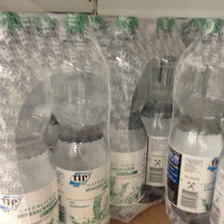water: (50, 12, 113, 224), (1, 12, 60, 224), (168, 19, 224, 222), (103, 16, 150, 221)
